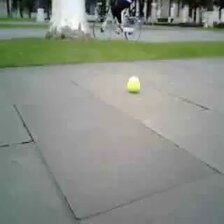tennis: (127, 76, 142, 93)
